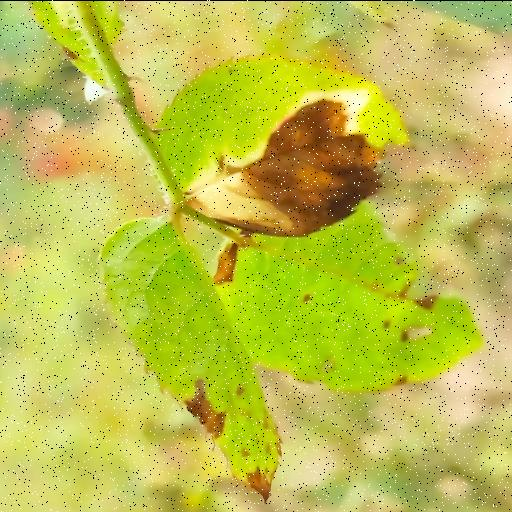thrip: (220, 205, 480, 392), (101, 217, 279, 482), (158, 55, 408, 236)
